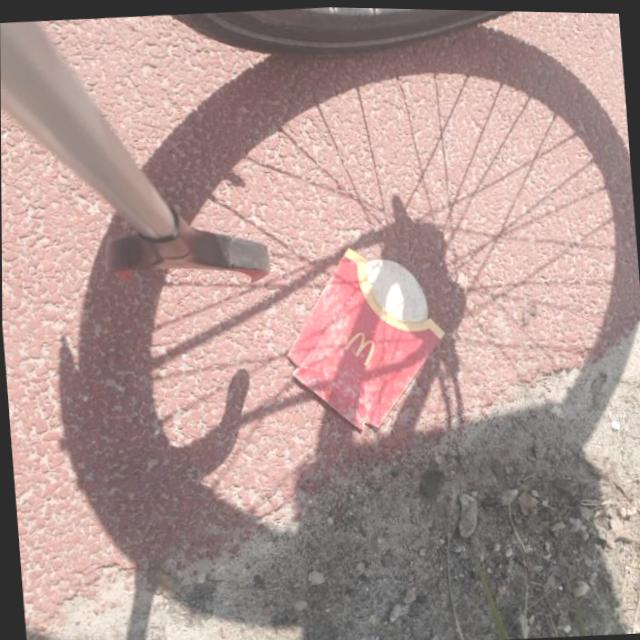Paper: (275, 235, 454, 436)
